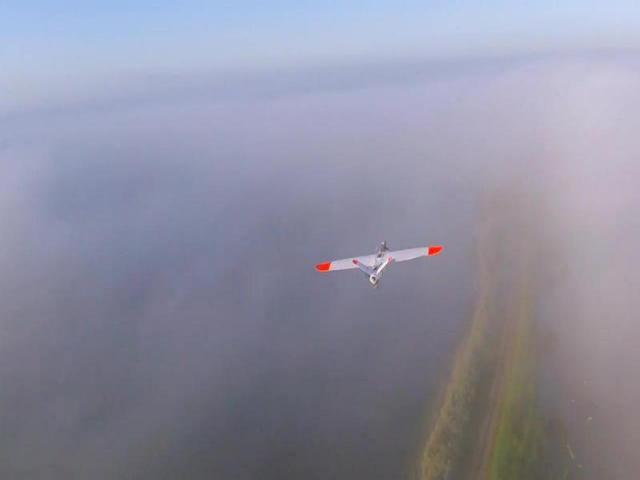hedef: (299, 228, 459, 304)
